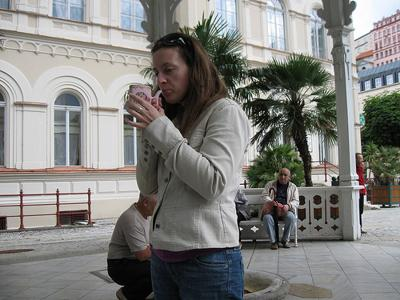person: (121, 31, 254, 300)
